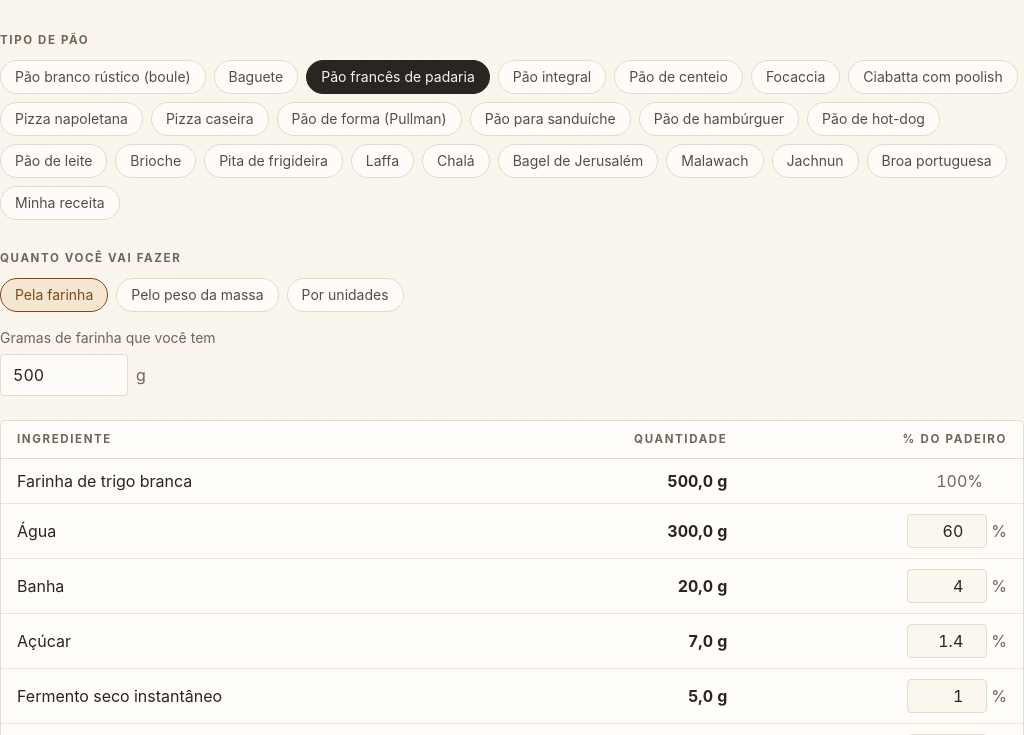
Test: calculadora de pães › mostra a hidratação real quando há pré-fermento
Click the button "Pão branco rústico (boule)".
click(103, 77)  # box [0,60,206,94]
(page scrolled)
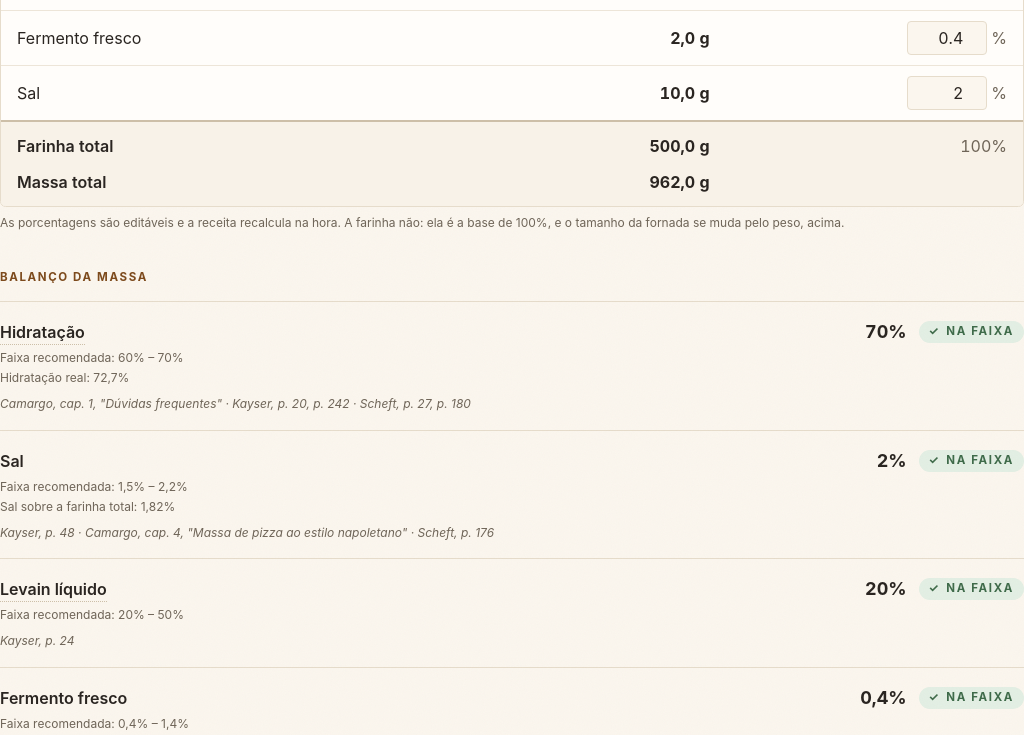
Expected: the text "Hidratação real: 72,7%" is shown, [0,370,129,385]
